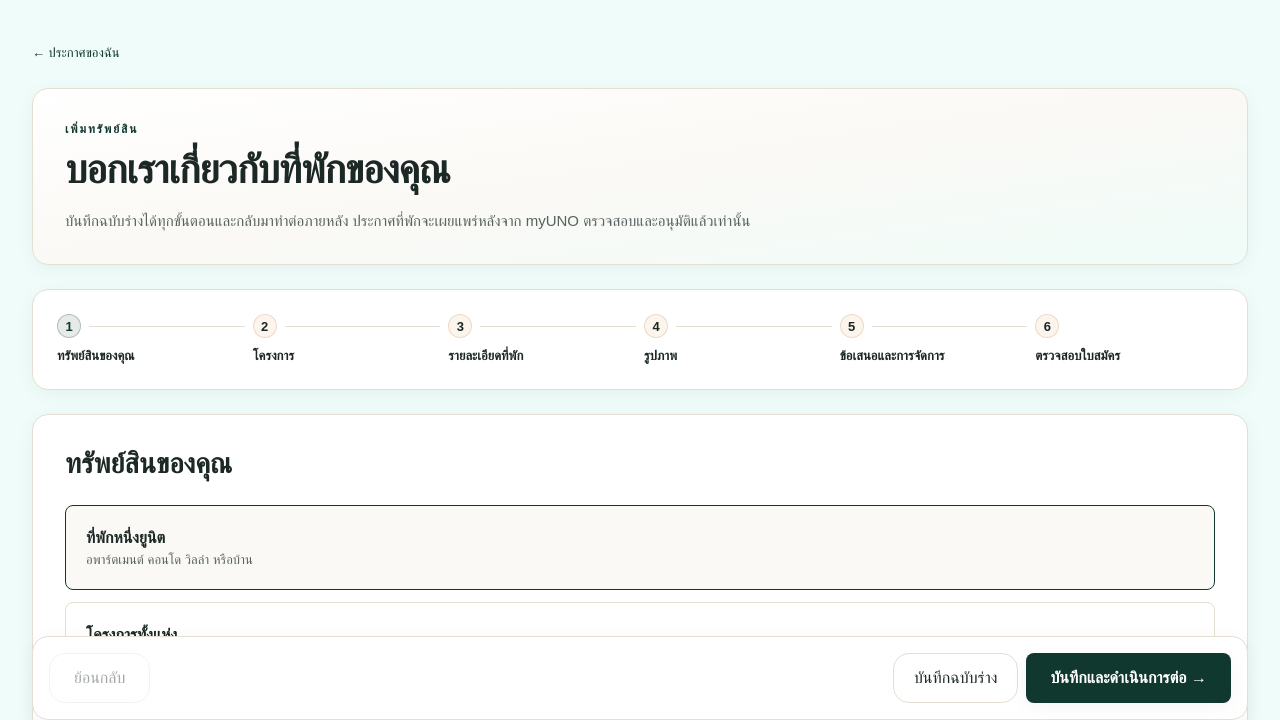
Test: bounded onboarding UI locale without workflow changes › renders shell, steps and preserves draft request in th
Expected: the heading "บอกเราเกี่ยวกับที่พักของคุณ" is shown, [65,147,450,191]
Expected: the list named "ขั้นตอนการเพิ่มทรัพย์สิน" is shown, [57,314,1223,365]
Click the button "บันทึกและดำเนินการต่อ →". click: (1129, 678)
box: [1026,653,1231,703]
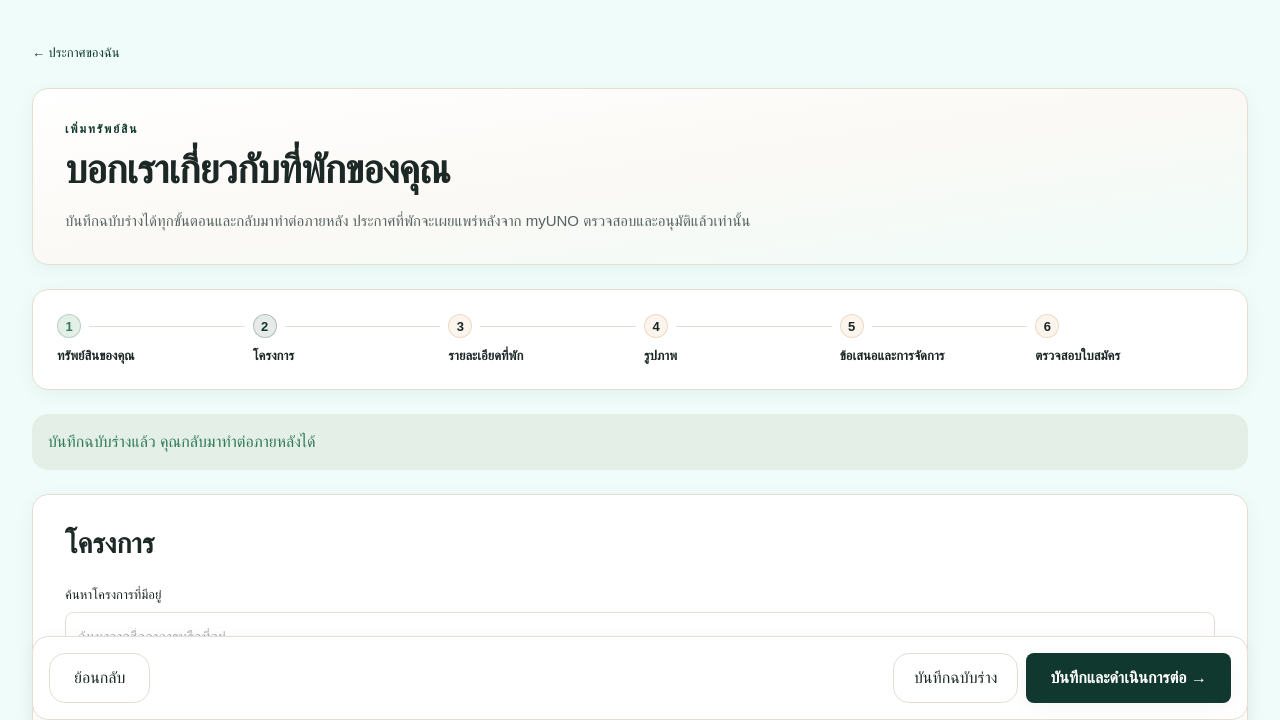
Expected: the heading "โครงการ" is shown, [65,528,154,559]
